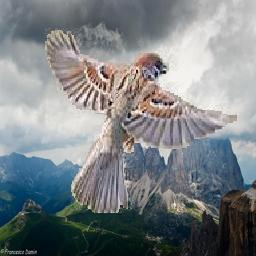Sparrow: (45, 29, 237, 214)
